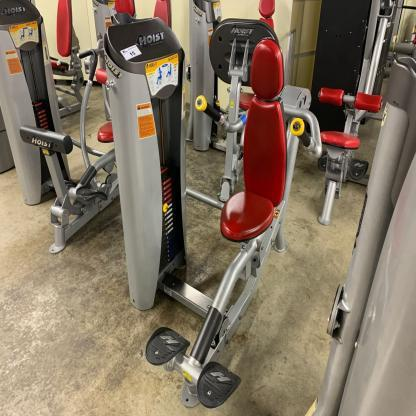seated dip machine: (113, 38, 321, 410)
